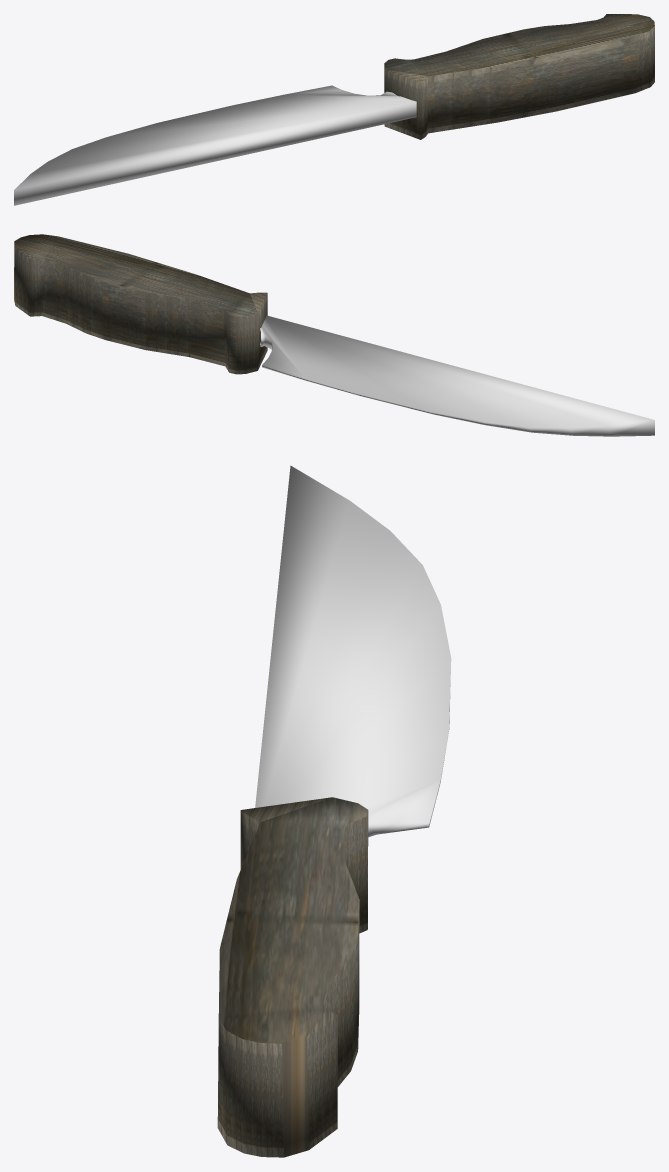
The model's file is knife.glb.
The picture shows the model from 3 angles, top to bottom: view 1: azimuth 30°, elevation 25°; view 2: azimuth 150°, elevation 25°; view 3: azimuth 270°, elevation 25°; orthographic projection. The views are drawn at different scales.
Visible parts, largest first — view 1: handle, gold; view 2: handle, gold; view 3: gold, handle.
Boxes of the visible parts, x1,y1,x2,y2 form: handle: [384, 14, 654, 139]; gold: [14, 85, 416, 205]; handle: [14, 234, 267, 374]; gold: [260, 315, 654, 436]; gold: [255, 465, 451, 837]; handle: [217, 797, 368, 1157].
Size of the model in its own units: 12.73 by 1.09 by 2.03.
2 materials, 1 textured.
